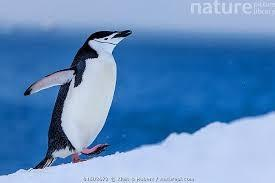chinstrap: (21, 23, 140, 168)
